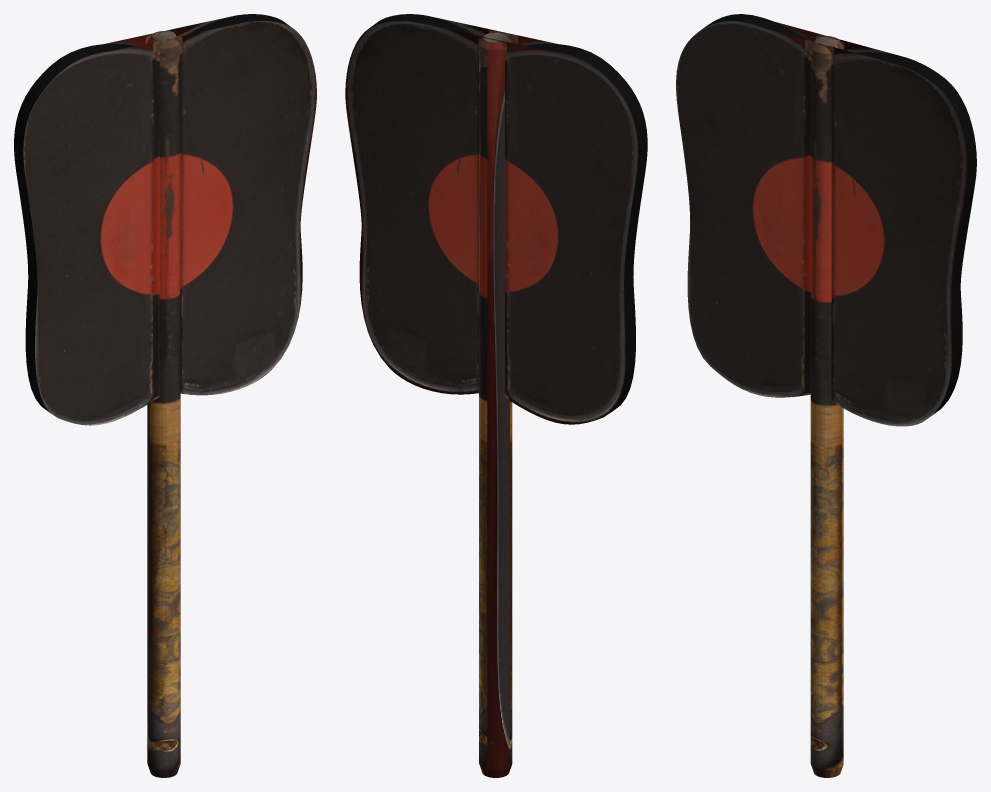
File: gunbai.fbx
3 renders of one model, left to right at view 1: azimuth 30°, elevation 25°; view 2: azimuth 150°, elevation 25°; view 3: azimuth 330°, elevation 25°, orthographic.
Parts seen in each view (by area): view 1: Curve, 円柱; view 2: Curve, 円柱; view 3: Curve, 円柱.
Boxes of the visible parts, x1=… form: Curve: x1=14, y1=14, x2=316, y2=425; 円柱: x1=147, y1=31, x2=180, y2=777; Curve: x1=345, y1=14, x2=647, y2=424; 円柱: x1=479, y1=32, x2=512, y2=777; Curve: x1=676, y1=14, x2=976, y2=426; 円柱: x1=810, y1=36, x2=843, y2=777.
Bounding box in the file's own units: 18.85 × 45.44 × 1.85.
5 materials, 4 textured.
